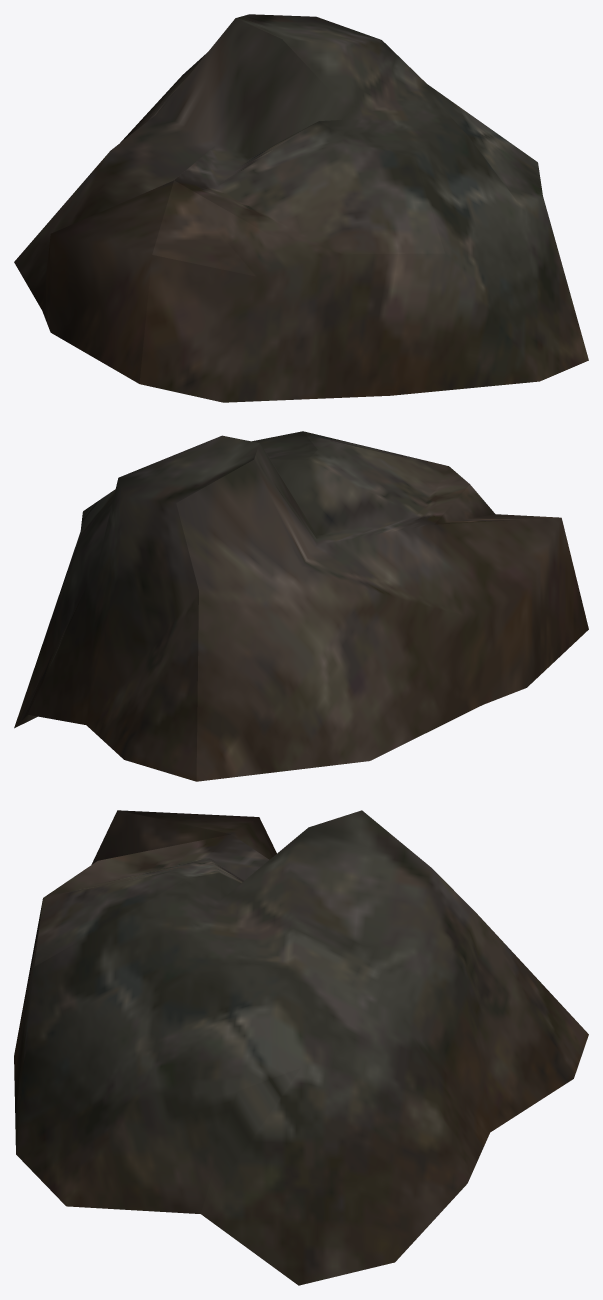
File: fxmg_shitou9.FBX
The picture shows the model from 3 angles, top to bottom: view 1: azimuth 30°, elevation 25°; view 2: azimuth 150°, elevation 25°; view 3: azimuth 270°, elevation 25°; orthographic projection. The views are drawn at different scales.
Parts seen in each view (by area): view 1: KLMSM_shitou9; view 2: KLMSM_shitou9; view 3: KLMSM_shitou9.
Part boxes in pixels (x1=…): KLMSM_shitou9: x1=14, y1=14, x2=588, y2=402; KLMSM_shitou9: x1=14, y1=431, x2=588, y2=781; KLMSM_shitou9: x1=14, y1=810, x2=588, y2=1285.
Size of the model in its own units: 8.34 by 5.74 by 8.47.
